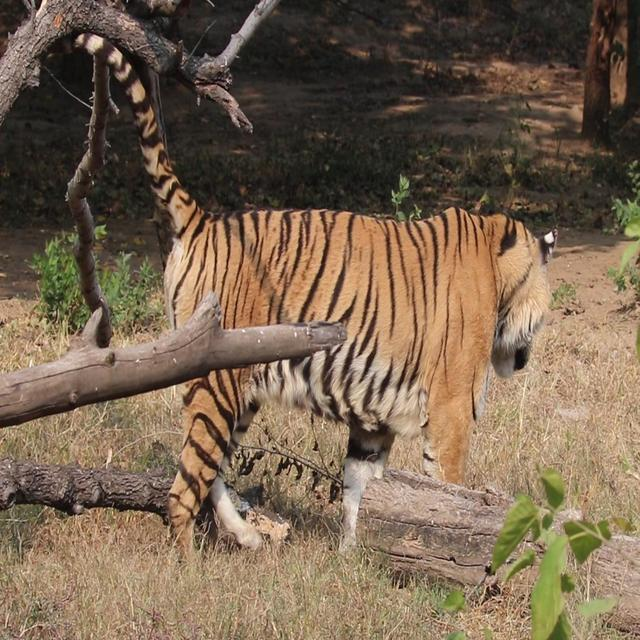tiger: (38, 0, 559, 564)
